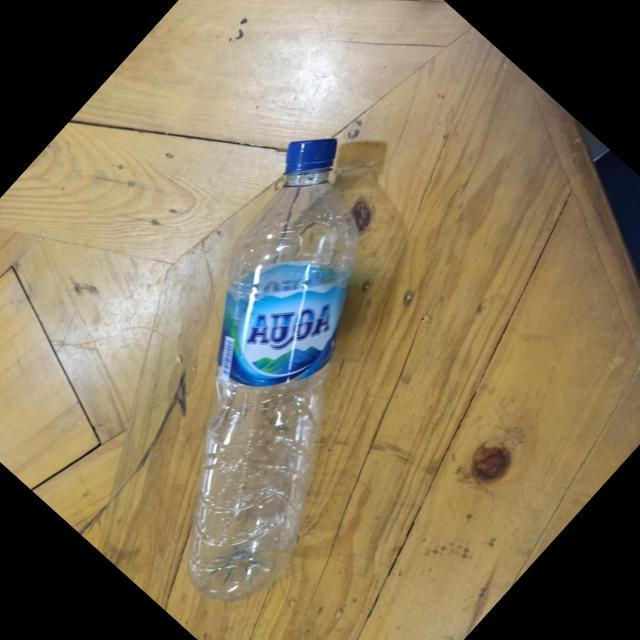BotolPlastik: (22, 116, 522, 626)
